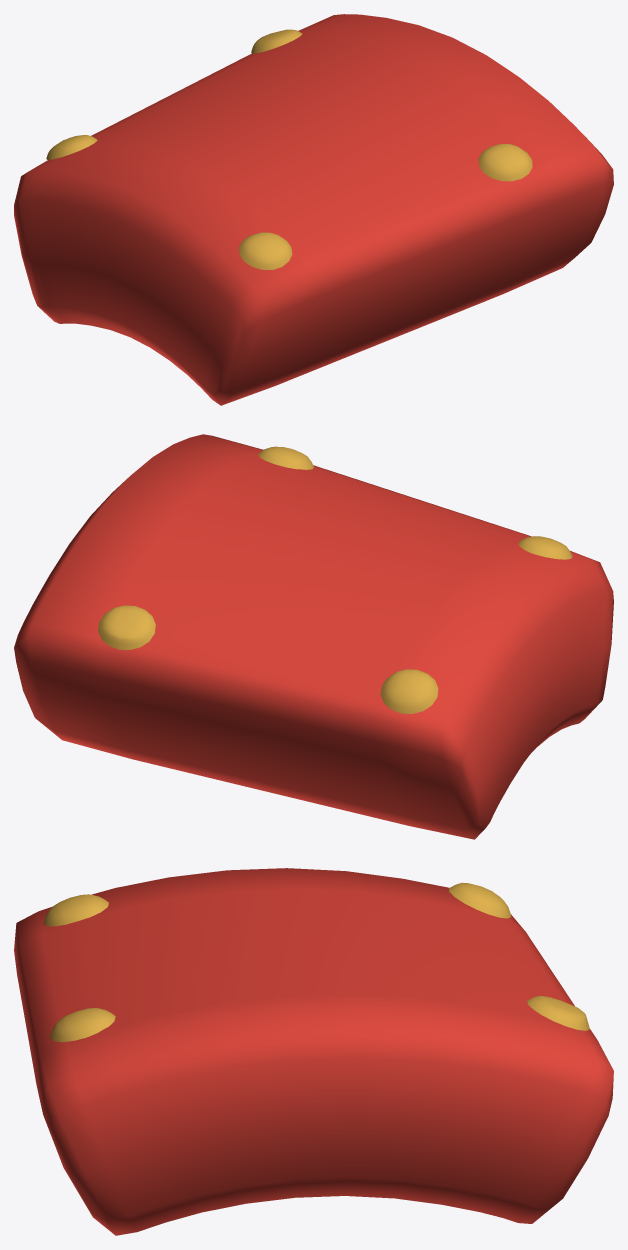
The model's file is ship_parts_1.fbx.
3 views of the same model, one above another, from view 1: azimuth 30°, elevation 25°; view 2: azimuth 150°, elevation 25°; view 3: azimuth 270°, elevation 25° (orthographic). The views are drawn at different scales.
Visible parts, largest first — view 1: Circle.001; view 2: Circle.001; view 3: Circle.001.
Boxes of the visible parts, left/top/right/bottom form: Circle.001: left=14, top=14, right=613, bottom=405; Circle.001: left=14, top=434, right=613, bottom=839; Circle.001: left=14, top=868, right=613, bottom=1235.
Size of the model in its own units: 1.42 by 0.671 by 1.36.
